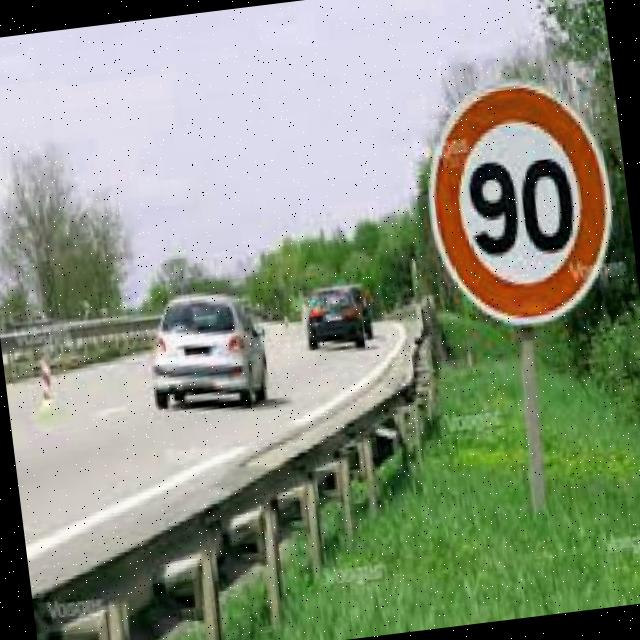Ograniczenie predkosci do 90: (421, 72, 624, 328)
